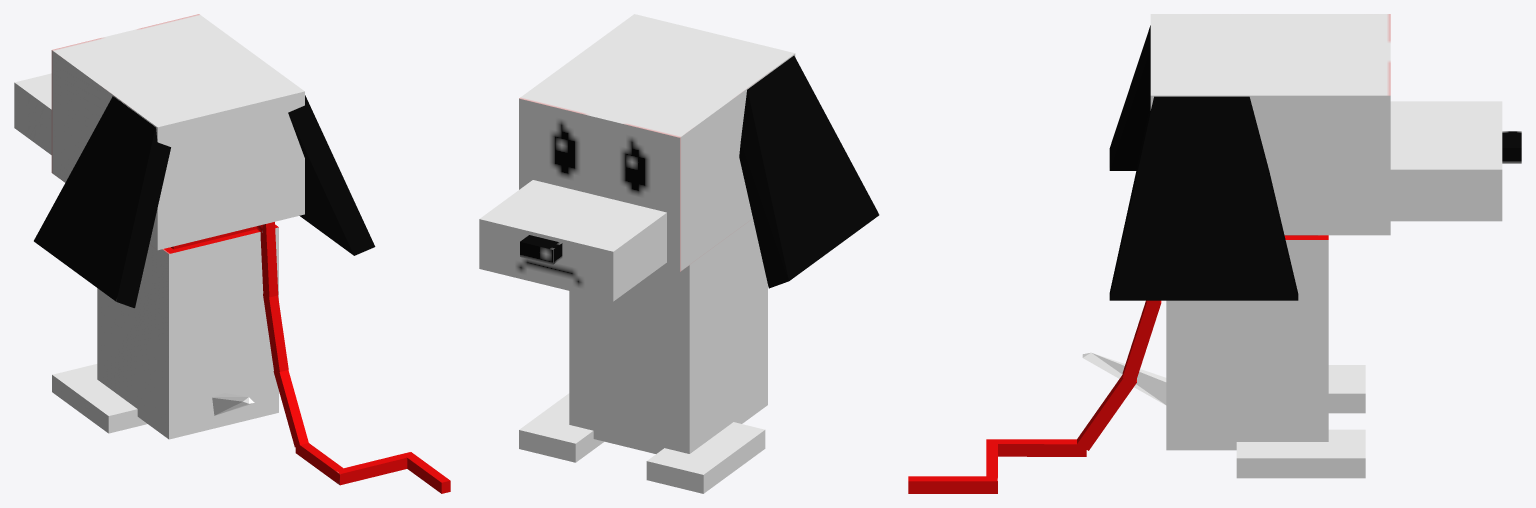
Rendered from dog-leashedV2.dae.
3 views of the same model, side by side, from view 1: azimuth 30°, elevation 25°; view 2: azimuth 150°, elevation 25°; view 3: azimuth 270°, elevation 25° (orthographic). The views are drawn at different scales.
Visible parts, largest first — view 1: Cube, Cube.005, Cube.002, Cube.003, Cube.001, Cube.004, Cube.006; view 2: Cube; view 3: Cube, Cube.004, Cube.006, Cube.003, Cube.002.
Part boxes in pixels (box(x1,y1,x2,y2)): Cube: box(14, 14, 375, 439); Cube.005: box(334, 453, 407, 485); Cube.002: box(263, 294, 288, 371); Cube.003: box(273, 370, 308, 447); Cube.001: box(260, 222, 278, 297); Cube.004: box(402, 452, 450, 493); Cube.006: box(295, 442, 342, 481); Cube: box(479, 14, 879, 493); Cube: box(1082, 14, 1521, 478); Cube.004: box(908, 476, 997, 493); Cube.006: box(998, 439, 1086, 456); Cube.003: box(1077, 375, 1136, 450); Cube.002: box(1122, 300, 1161, 381).
Size of the model in its own units: 2.91 by 5.26 by 3.57.
